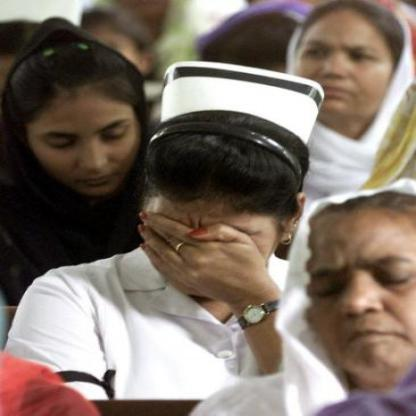face: (30, 58, 141, 202), (296, 1, 399, 122)
